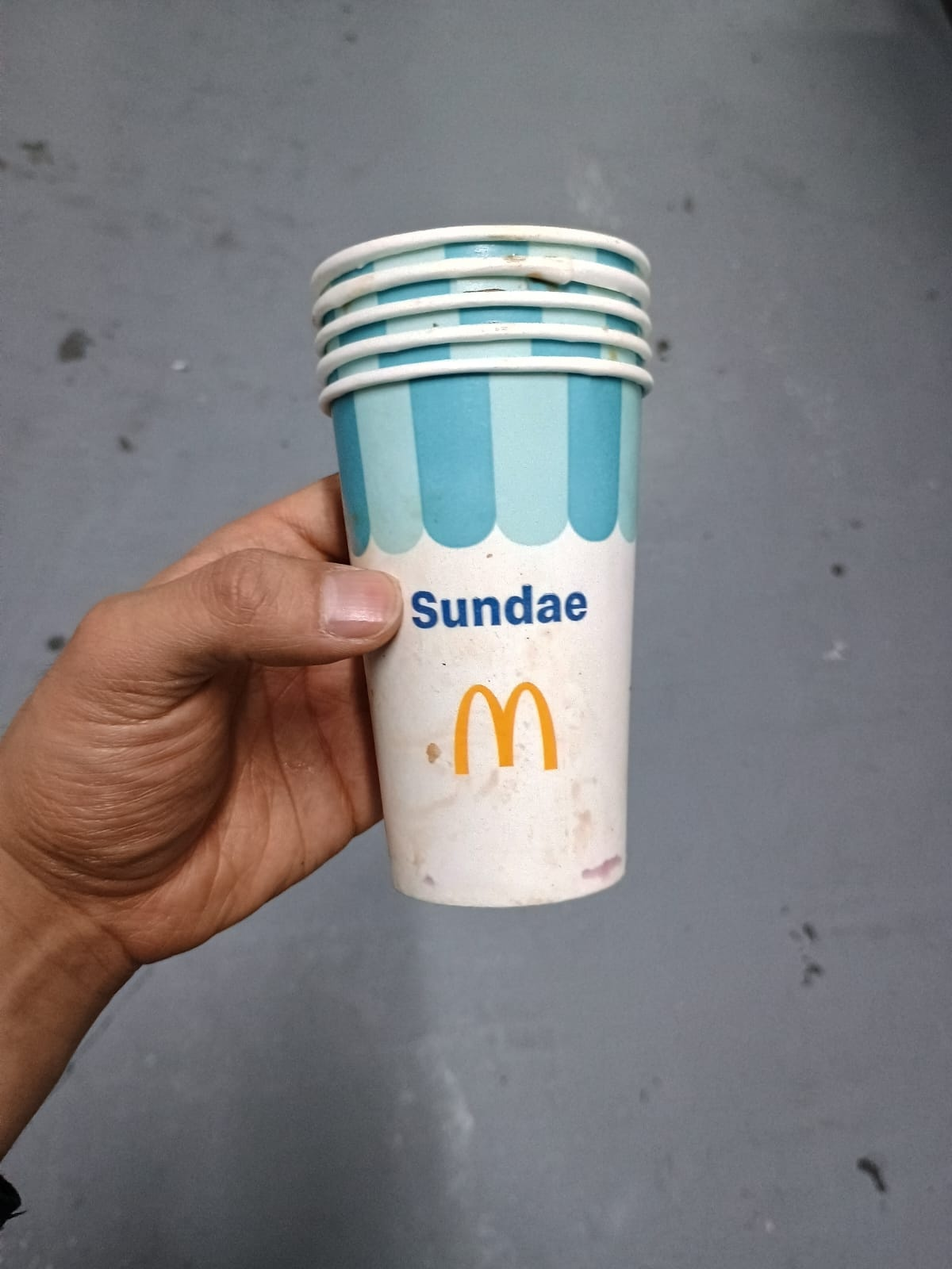Carton: (315, 225, 655, 906)
